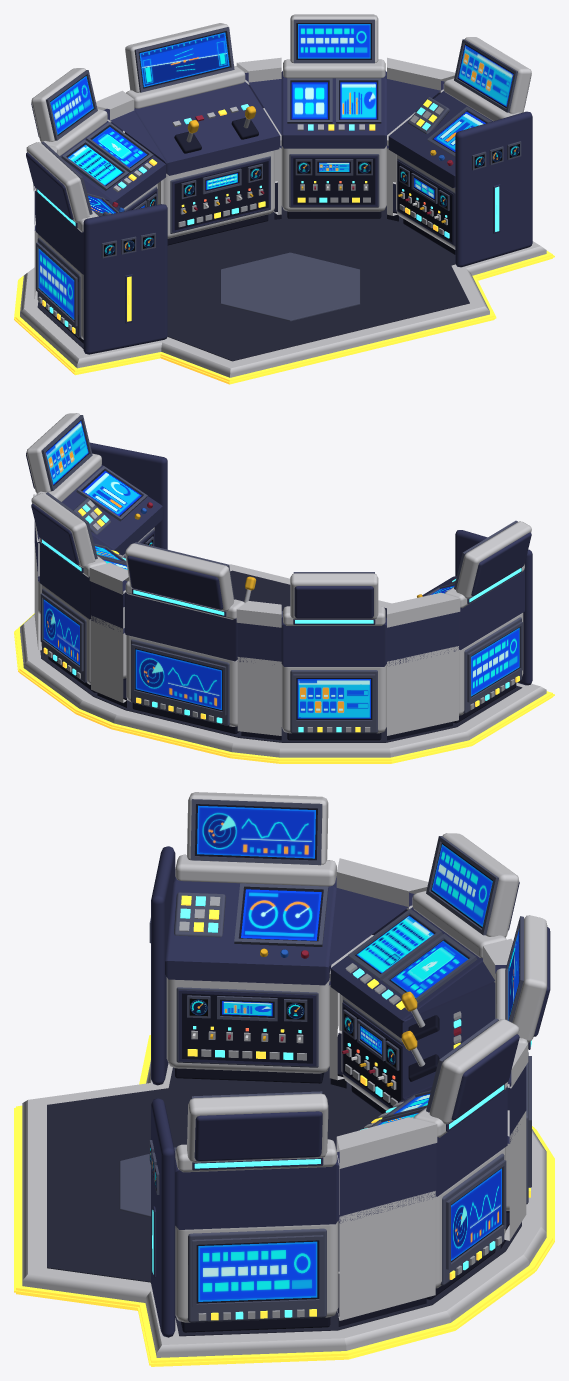
The model's file is prop.props_bridge.command_station.glb.
The picture shows the model from 3 angles, top to bottom: view 1: azimuth 30°, elevation 25°; view 2: azimuth 150°, elevation 25°; view 3: azimuth 270°, elevation 25°; orthographic projection. The views are drawn at different scales.
Visible parts, largest first — view 1: prop.props_bridge.command_station; view 2: prop.props_bridge.command_station; view 3: prop.props_bridge.command_station.
Boxes of the visible parts, <box> form: prop.props_bridge.command_station: <box>14,14,554,384</box>; prop.props_bridge.command_station: <box>14,413,554,763</box>; prop.props_bridge.command_station: <box>14,792,554,1366</box>.
Bounding box in the file's own units: 3.79 × 1.39 × 2.63.
29 materials, 14 textured.
